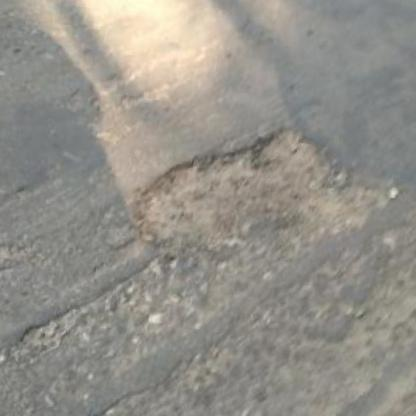pothole: (131, 103, 405, 290)
